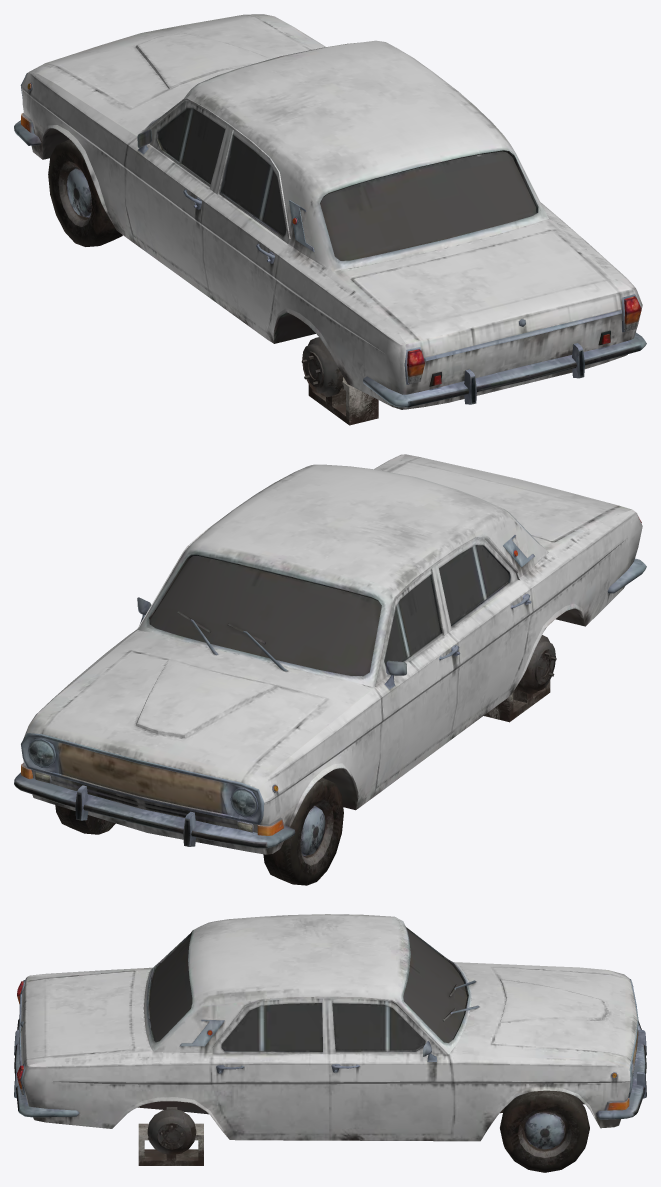
Rendered from gaz_24.glb.
The picture shows the model from 3 angles, top to bottom: view 1: azimuth 30°, elevation 25°; view 2: azimuth 150°, elevation 25°; view 3: azimuth 270°, elevation 25°; orthographic projection. The views are drawn at different scales.
Visible parts, largest first — view 1: gaz24_low, wheel_01; view 2: gaz24_low, wheel_01; view 3: gaz24_low, wheel_01.
Boxes of the visible parts, left/top/right/bottom form: gaz24_low: left=14, top=14, right=646, bottom=409; wheel_01: left=48, top=139, right=378, bottom=425; gaz24_low: left=14, top=454, right=646, bottom=854; wheel_01: left=55, top=635, right=556, bottom=885; gaz24_low: left=14, top=914, right=646, bottom=1141; wheel_01: left=138, top=1090, right=589, bottom=1172.
Size of the model in its own units: 3.34 by 2.72 by 8.49.
Materials: 2 (2 with a texture image).
